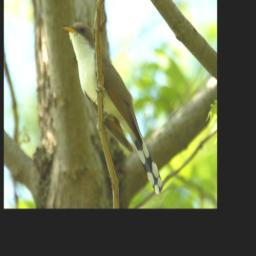Cuckoo: (61, 22, 162, 193)
